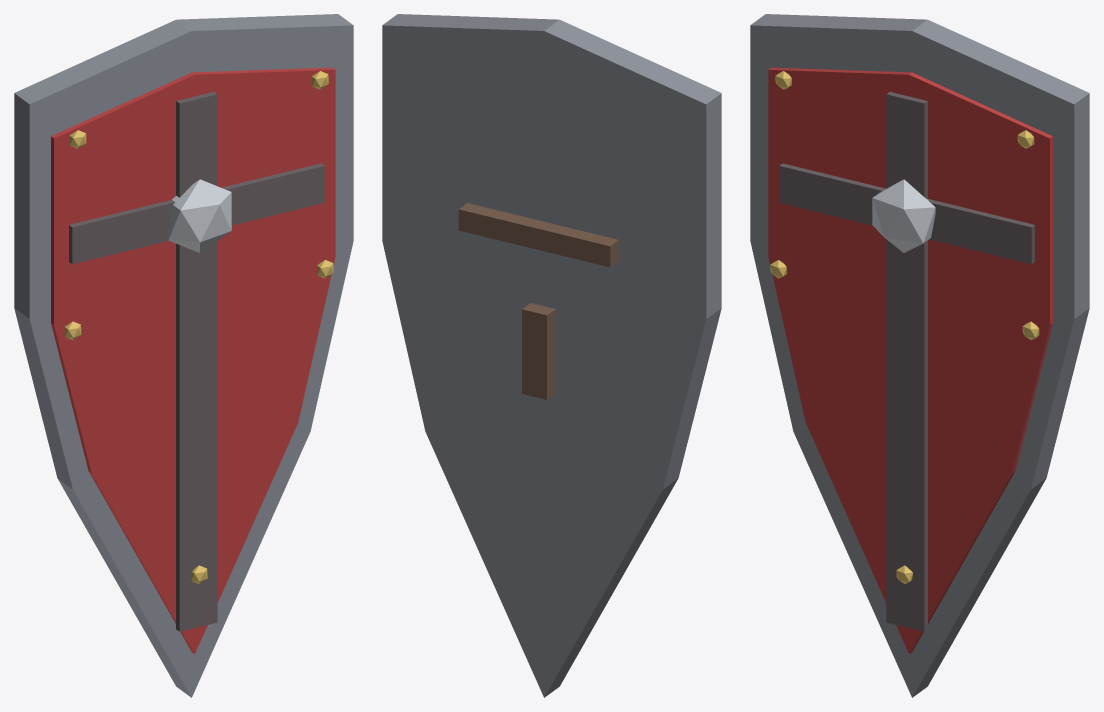
The model's file is Weapon_Shield_Kite_Red.glb.
3 views of the same model, side by side, from view 1: azimuth 30°, elevation 25°; view 2: azimuth 150°, elevation 25°; view 3: azimuth 330°, elevation 25° (orthographic).
Visible parts, largest first — view 1: Shield_Kite_Red; view 2: Shield_Kite_Red; view 3: Shield_Kite_Red.
Part boxes in pixels (x1,y1,x2,y2): Shield_Kite_Red: [14, 14, 353, 697]; Shield_Kite_Red: [382, 14, 721, 697]; Shield_Kite_Red: [750, 14, 1089, 697].
Size of the model in its own units: 0.642 by 1.26 by 0.149.
